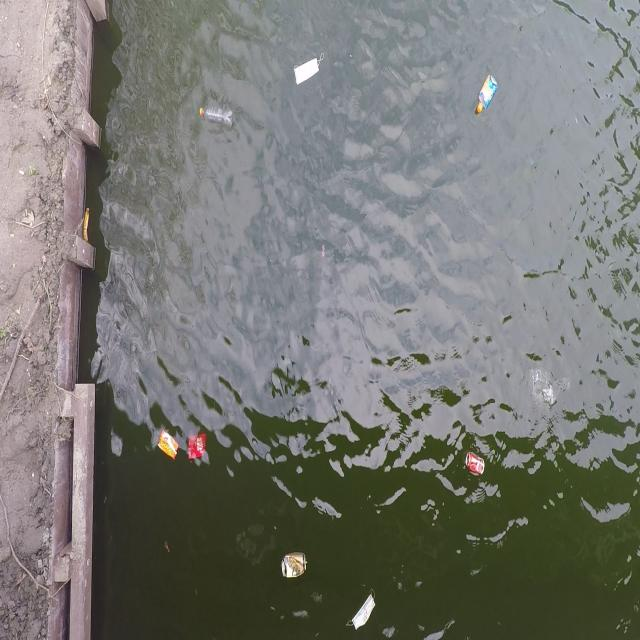Bouteille plastique: (192, 101, 239, 129), (474, 73, 499, 118)
Non plastique: (290, 48, 328, 91), (344, 589, 382, 632), (279, 545, 311, 583), (460, 443, 487, 479)
